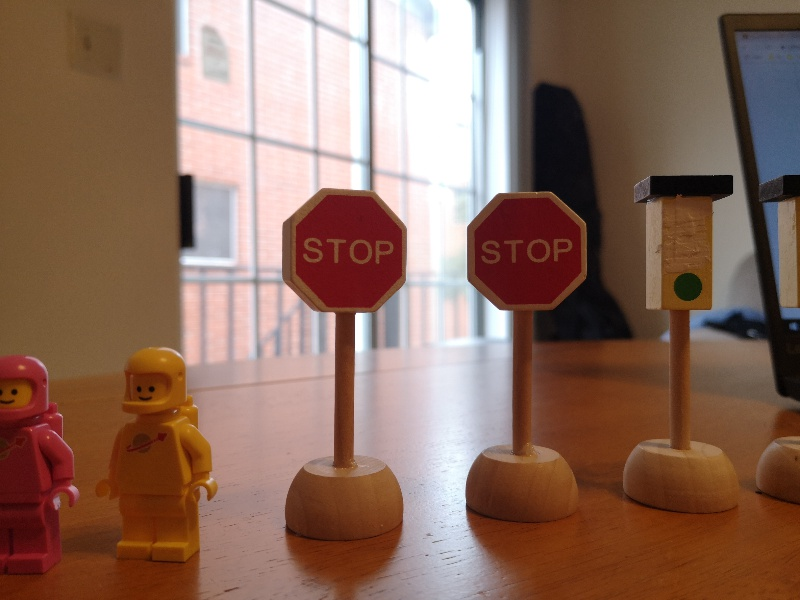Green Traffic Light: (627, 175, 732, 312)
Person: (97, 349, 217, 564), (1, 357, 81, 573)
Stop Sign: (281, 189, 407, 316), (467, 192, 588, 311)
